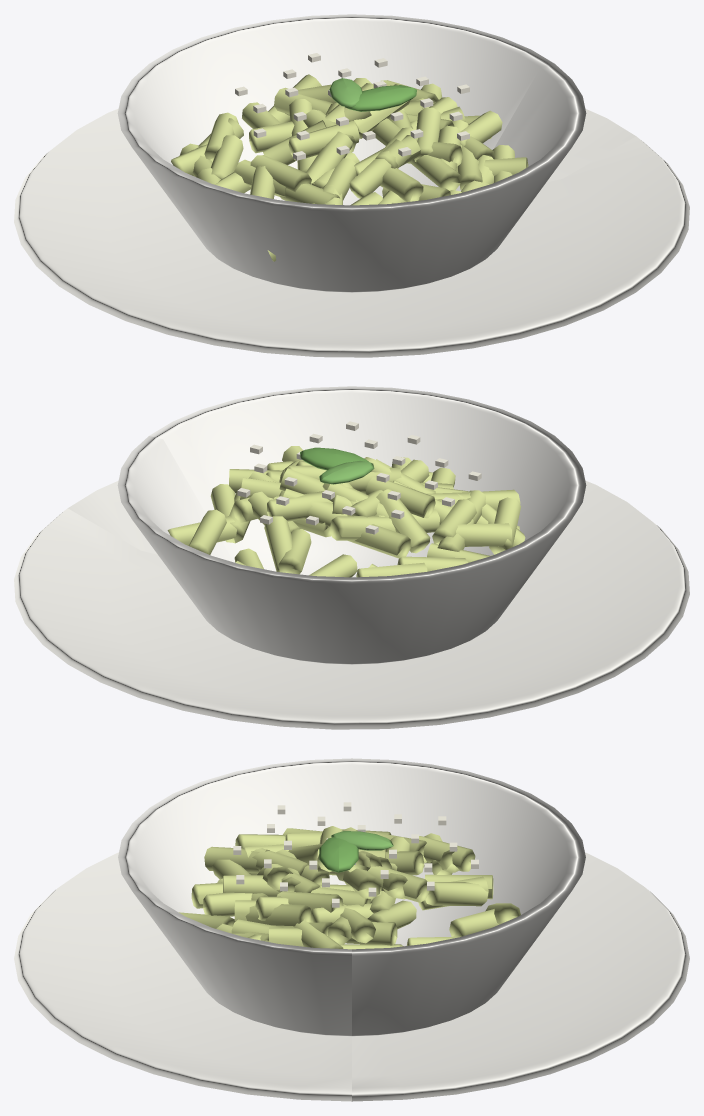
File: pesto-pasta.glb
The picture shows the model from 3 angles, top to bottom: view 1: azimuth 30°, elevation 25°; view 2: azimuth 150°, elevation 25°; view 3: azimuth 270°, elevation 25°; orthographic projection.
Visible parts, largest first — view 1: pesto-pasta; view 2: pesto-pasta; view 3: pesto-pasta.
Boxes of the visible parts, bbox=[...] form: pesto-pasta: bbox=[14, 14, 689, 357]; pesto-pasta: bbox=[14, 386, 689, 729]; pesto-pasta: bbox=[14, 758, 689, 1101].
Bounding box in the file's own units: 0.26 × 0.0653 × 0.26.
